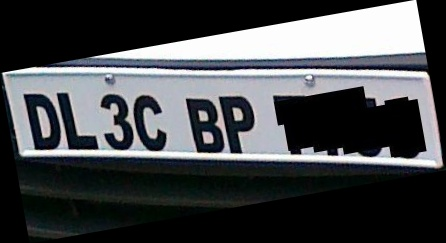character: (54, 89, 101, 152), (216, 92, 256, 156), (20, 91, 63, 150), (183, 95, 225, 155), (99, 91, 136, 151), (131, 92, 167, 152)
